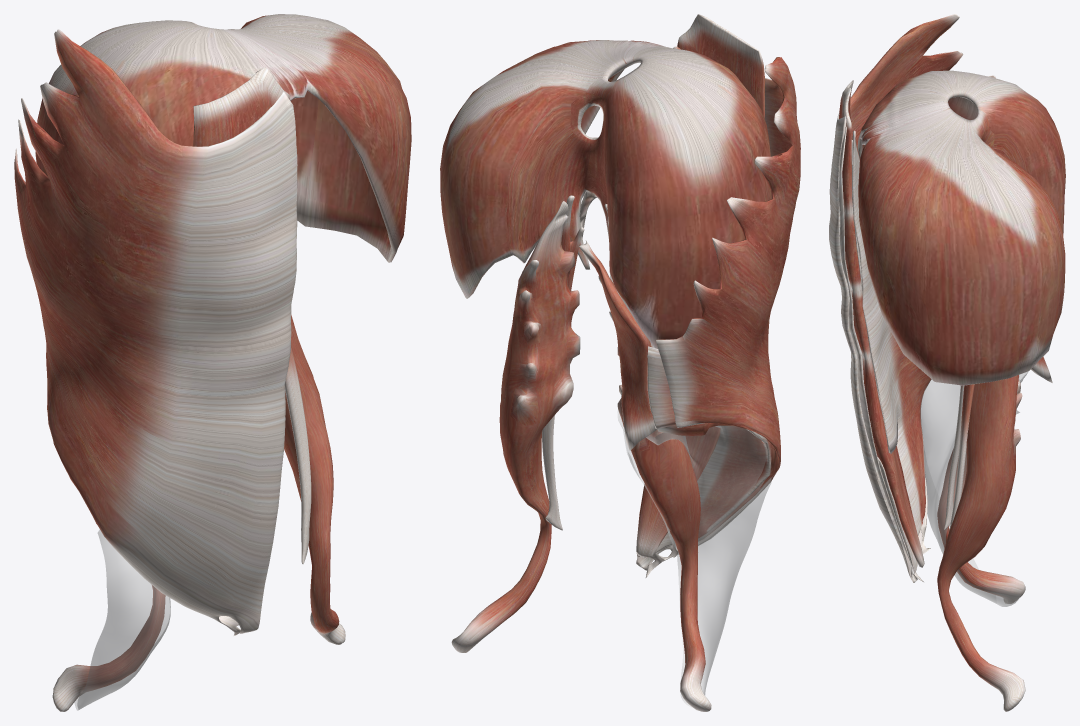
File: abdomen.glb
3 renders of one model, left to right at view 1: azimuth 30°, elevation 25°; view 2: azimuth 150°, elevation 25°; view 3: azimuth 270°, elevation 25°, orthographic. The views are drawn at different scales.
Visible parts, largest first — view 1: External abdominal oblique muscle.r, Diaphragm, Psoas major.r, Iliopsoas fascia.r, Rectus abdominal muscle.r, Psoas minor.r; view 2: Diaphragm, Psoas major.r, External abdominal oblique muscle.r, Iliopsoas fascia.r, Transverse abdominal muscle.r, Rectus abdominal muscle.r, Quadratus lumborum muscle.r, Internal abdominal oblique muscle.r, Psoas minor.r; view 3: Diaphragm, Psoas major.r, External abdominal oblique muscle.r, Transverse abdominal muscle.r, Rectus abdominal muscle.r, Iliopsoas fascia.r, Internal abdominal oblique muscle.r, Psoas minor.r.
Boxes of the visible parts, <box> form: External abdominal oblique muscle.r: <box>14,29,297,636</box>; Diaphragm: <box>35,14,411,262</box>; Psoas major.r: <box>52,314,345,711</box>; Iliopsoas fascia.r: <box>74,529,170,710</box>; Rectus abdominal muscle.r: <box>193,67,290,146</box>; Psoas minor.r: <box>285,345,311,563</box>; Diaphragm: <box>440,40,772,348</box>; Psoas major.r: <box>451,201,711,711</box>; External abdominal oblique muscle.r: <box>636,57,800,577</box>; Iliopsoas fascia.r: <box>617,342,771,707</box>; Transverse abdominal muscle.r: <box>640,46,771,558</box>; Rectus abdominal muscle.r: <box>636,14,765,557</box>; Quadratus lumborum muscle.r: <box>579,240,656,450</box>; Internal abdominal oblique muscle.r: <box>647,350,776,554</box>; Psoas minor.r: <box>542,195,678,557</box>; Diaphragm: <box>857,70,1065,385</box>; Psoas major.r: <box>937,375,1025,711</box>; External abdominal oblique muscle.r: <box>829,14,995,582</box>; Transverse abdominal muscle.r: <box>852,130,931,572</box>; Rectus abdominal muscle.r: <box>839,80,924,567</box>; Iliopsoas fascia.r: <box>920,371,1027,606</box>; Internal abdominal oblique muscle.r: <box>839,126,914,573</box>; Psoas minor.r: <box>944,384,974,530</box>.
Size of the model in its own units: 0.2661 by 0.5047 by 0.1885.
5 materials, 4 textured.
